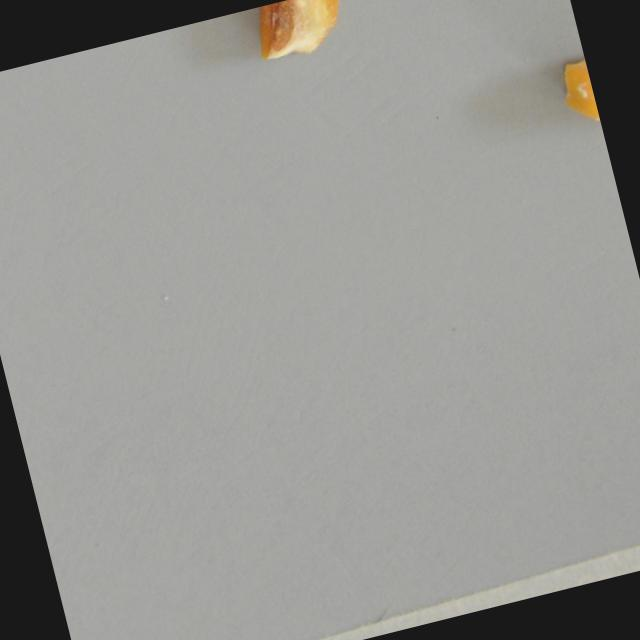dañado: (246, 0, 355, 65), (551, 53, 603, 142)
